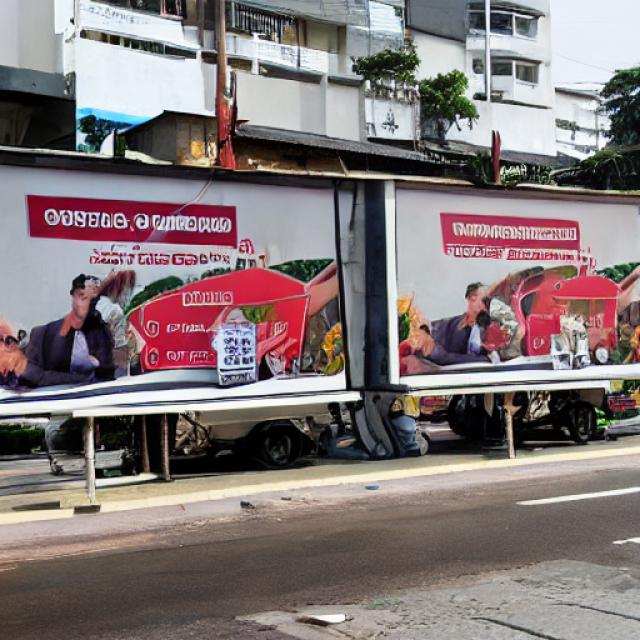Billboard: (0, 144, 352, 413), (383, 168, 640, 387)
